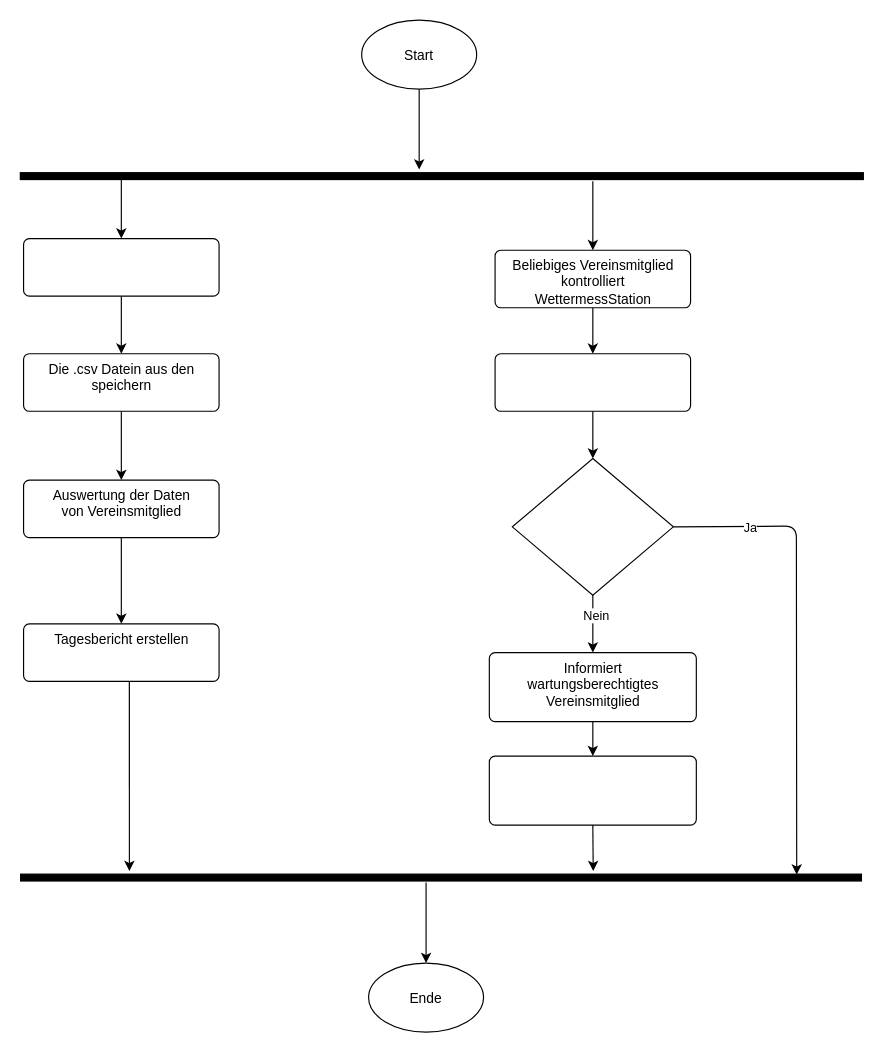
The diagram is 884 pixels wide and 1052 high, and some of its shapes have lost their labels. Each missing label, with the centre of its shape:
"Daten der WettermessStation werden empfangen" belongs at (x=120, y=266).
"Informiert Koordinator" belongs at (x=592, y=382).
"Wartung der Wettermessstation" belongs at (x=592, y=790).
"WettermessStation ist funktionsfähig" belongs at (x=592, y=526).
